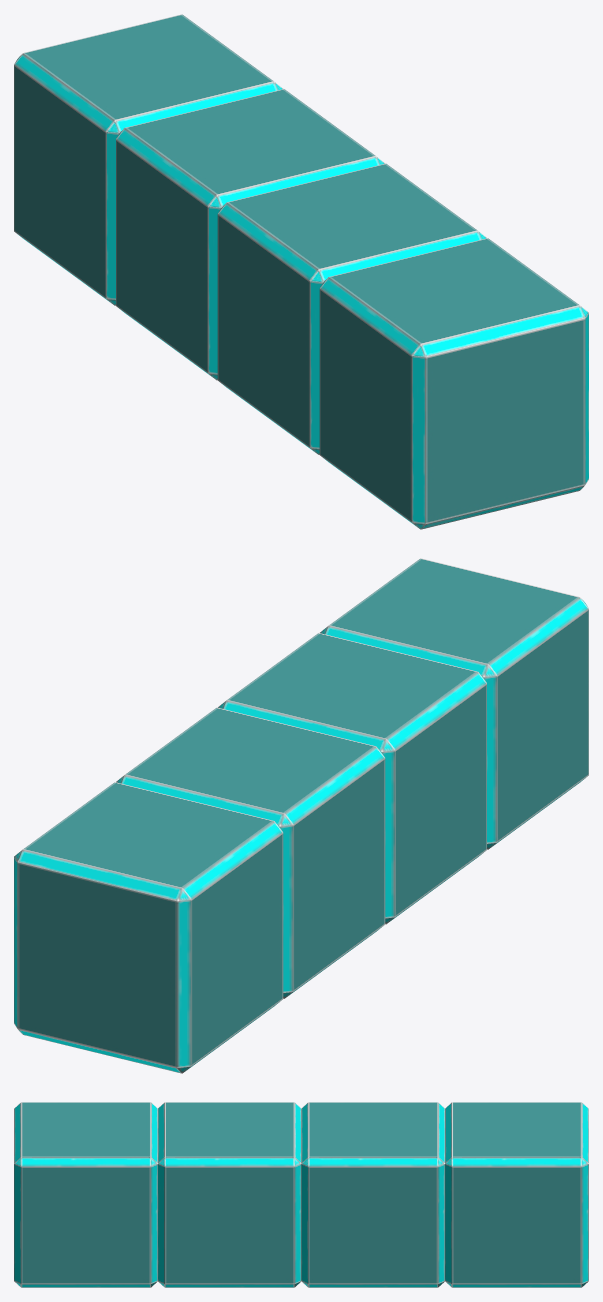
The model's file is Light Blue Block.fbx.
3 renders of one model, top to bottom at view 1: azimuth 30°, elevation 25°; view 2: azimuth 150°, elevation 25°; view 3: azimuth 270°, elevation 25°, orthographic. The views are drawn at different scales.
Parts seen in each view (by area): view 1: pCube41; view 2: pCube41; view 3: pCube41.
Part boxes in pixels (<box>): pCube41: <box>14,14,588,529</box>; pCube41: <box>14,558,588,1073</box>; pCube41: <box>14,1102,588,1287</box>.
Bounding box in the file's own units: 1 × 1 × 3.99.
